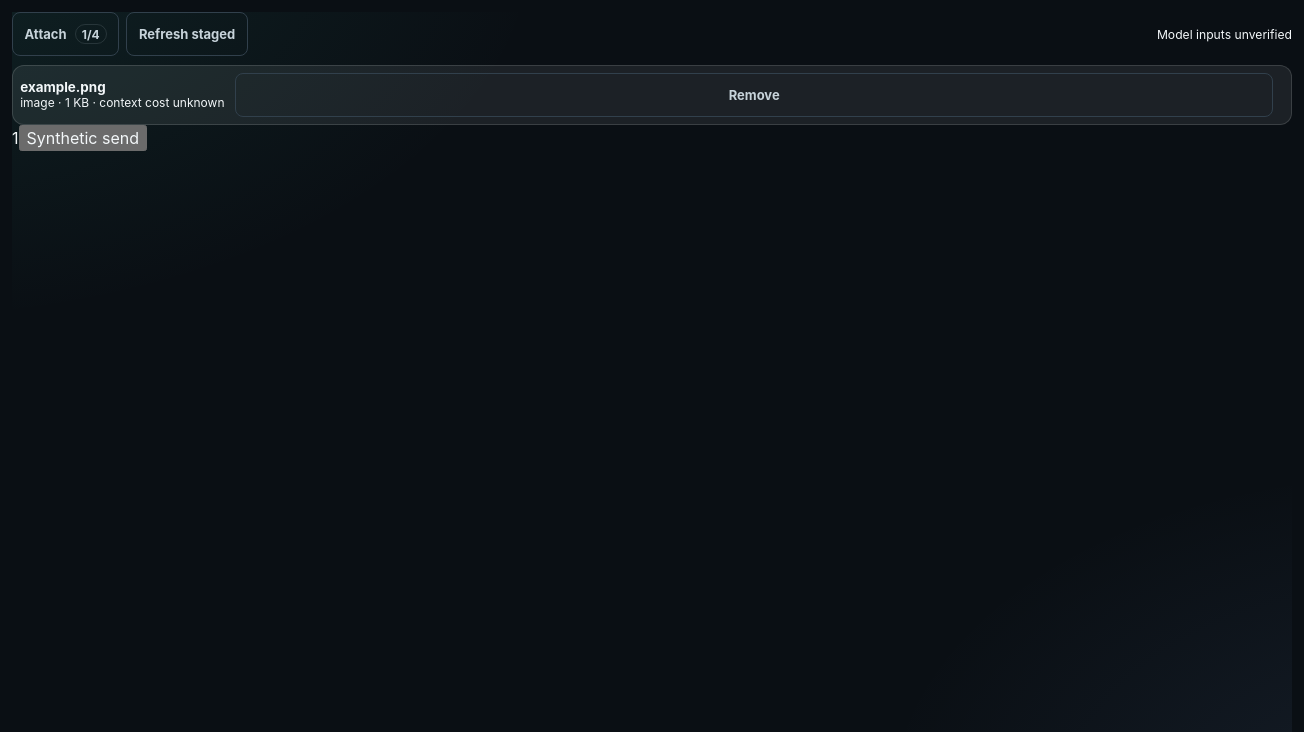
Test case: AgentComposerAttachments › allows a staged attachment to be removed while model media input is unavailable
Expected: the text "example.png" is shown, [20,80,106,96]
What coordinates should you click on to do the following:
click the button "Attach 1/4"
I would click on:
 (66, 34)
Its box is [12,12,119,56].
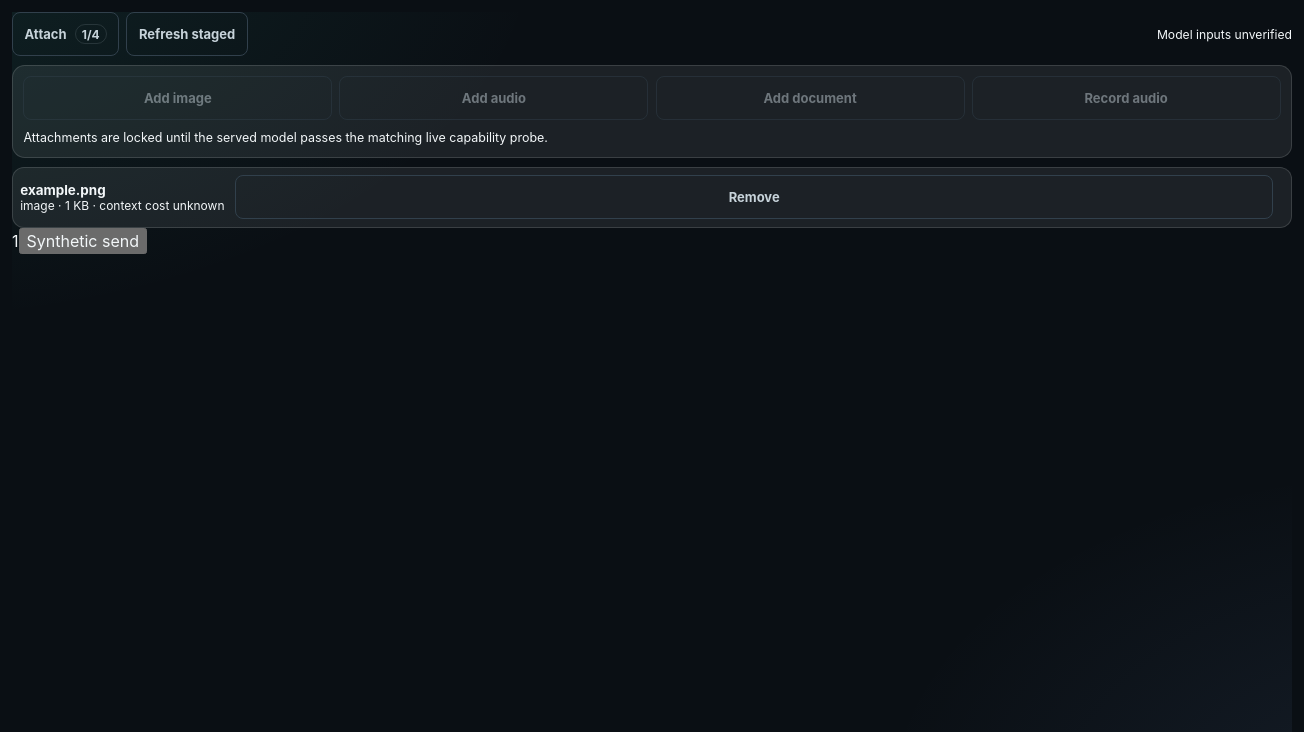
Expected: the button "Add image" is disabled, [23,76,332,120]
What coordinates should you click on to do the following:
click the button with aria-label "Remove example.png"
I would click on:
 (754, 198)
Its box is [235,176,1273,220].
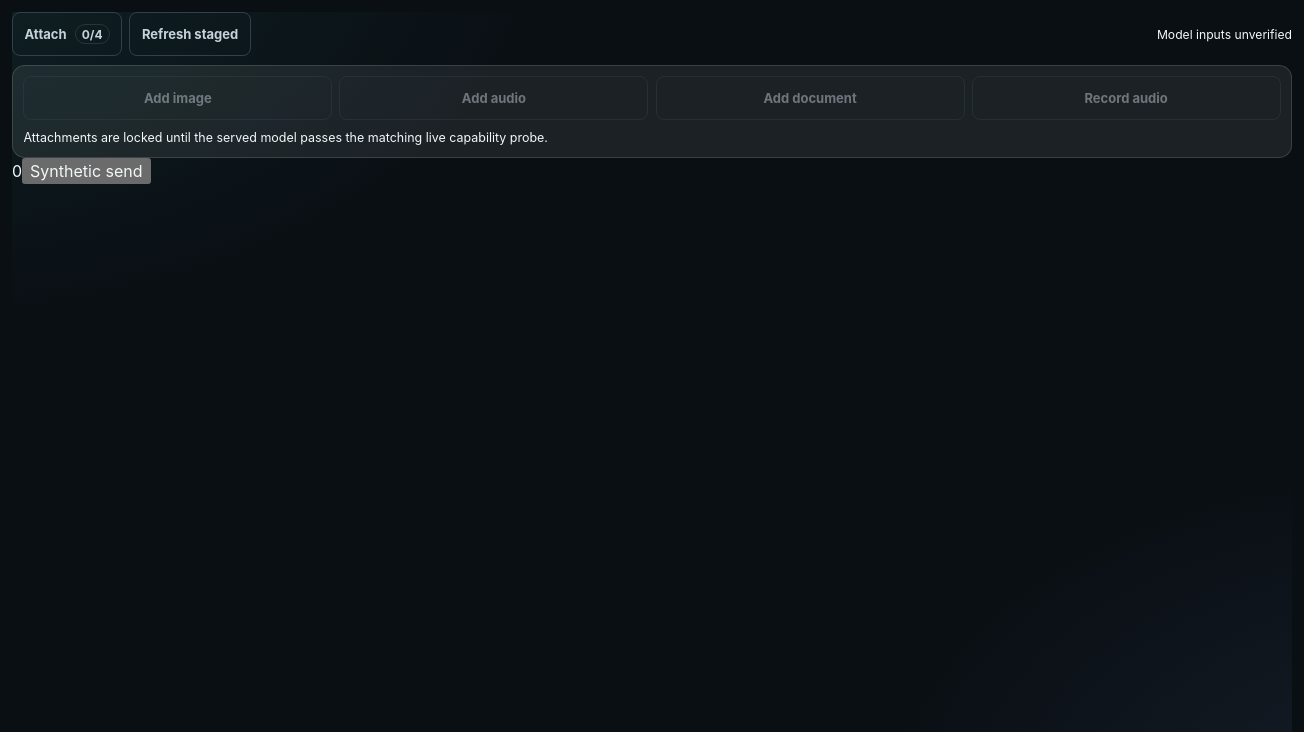
Expected: the text with test id "attachment-count" reads "0", [12,162,22,182]
